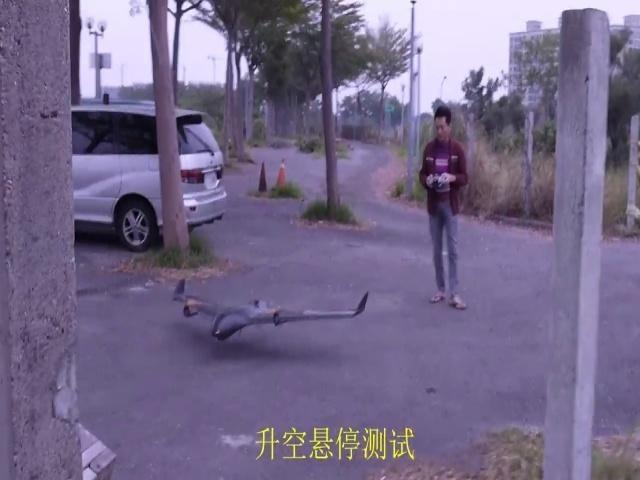Airplane: (171, 279, 369, 341)
